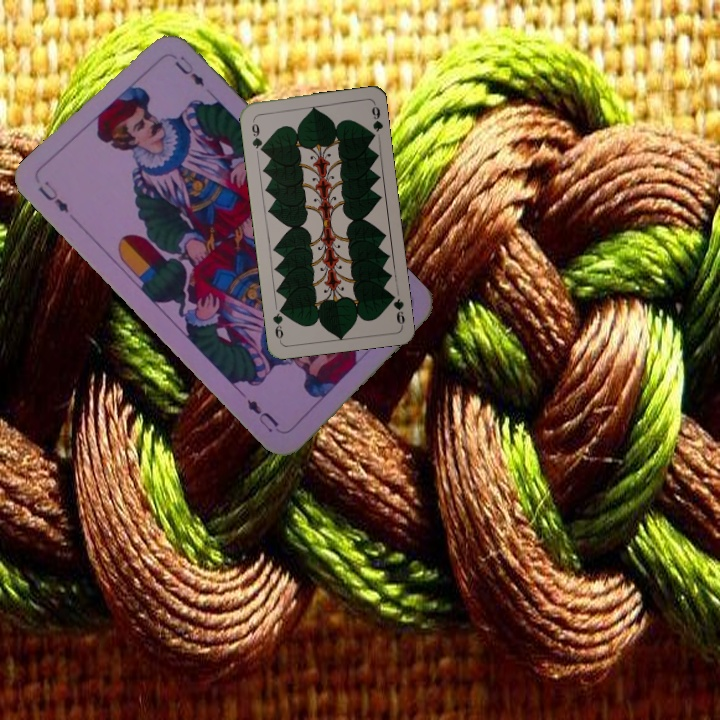EU: (34, 176, 72, 215)
G9: (386, 289, 407, 328), (247, 115, 266, 155)
